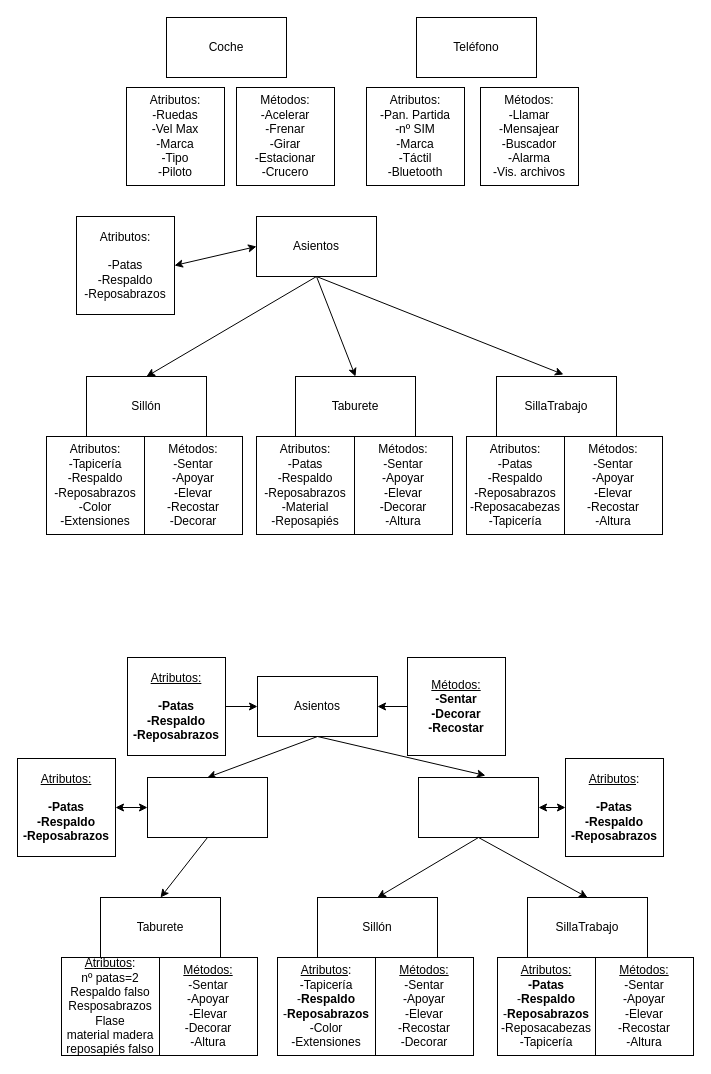
Some shapes in this 711 by 1074 pixel diagram are drawn without their labels. Here are the shapes that lost their labels. From the top down, the centre of each, then its label:
At (x=207, y=807): "Sencillo".
At (x=478, y=807): "Complejo".
